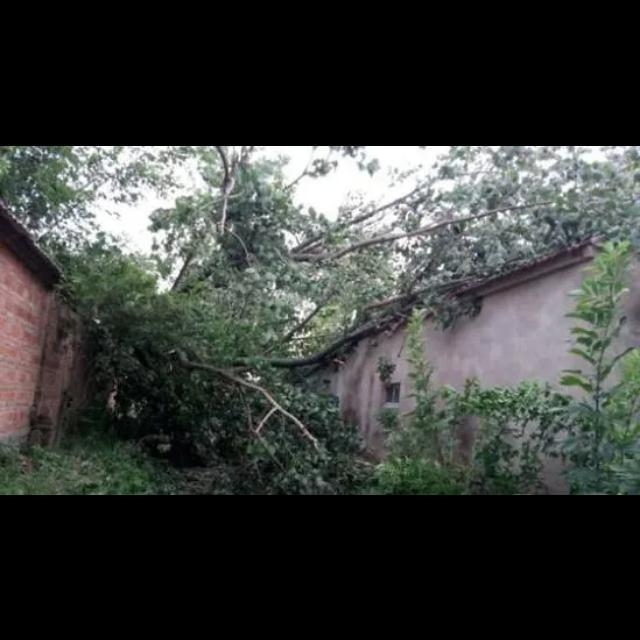fallen_tree: (83, 261, 461, 484)
